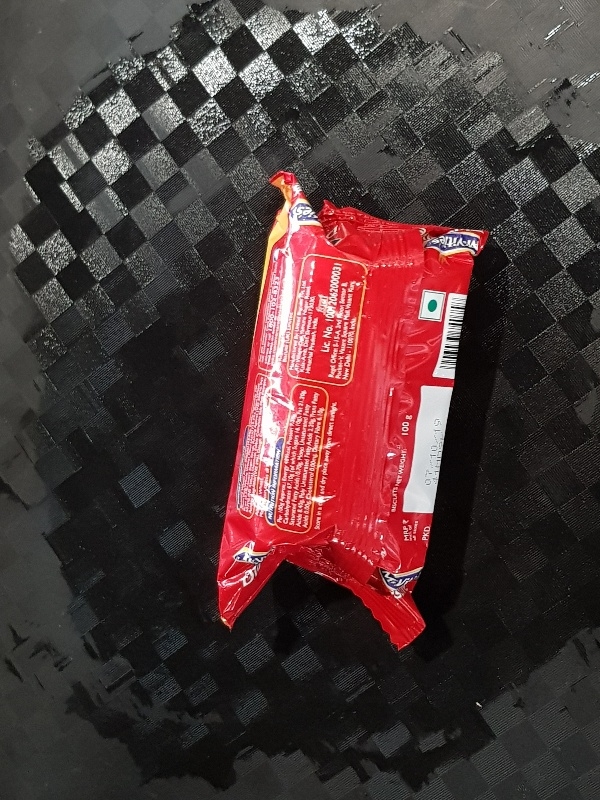Mcvitie's Digestive: (217, 174, 487, 651)
